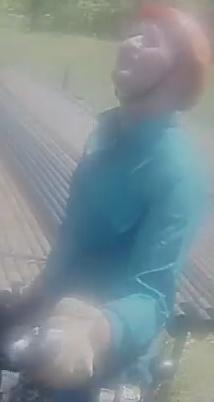gloves: (28, 297, 112, 392)
helmet: (140, 3, 212, 112)
vest: (62, 114, 196, 340)
